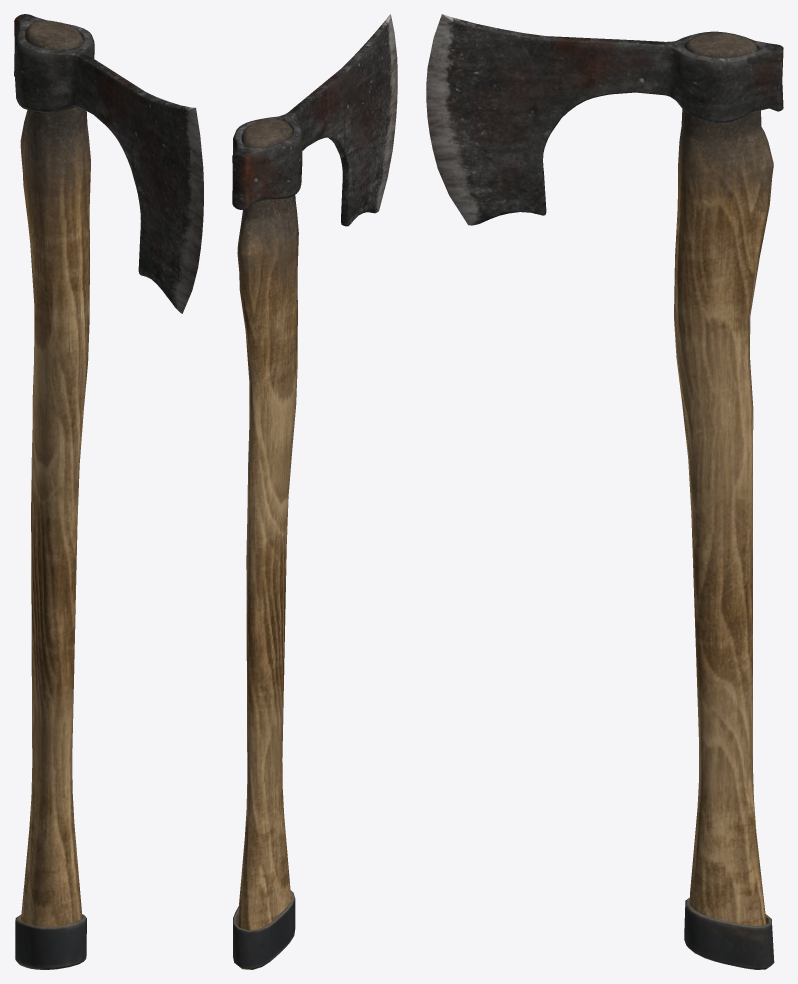
Rendered from hache.glb.
The picture shows the model from 3 angles, left to right: view 1: azimuth 30°, elevation 25°; view 2: azimuth 150°, elevation 25°; view 3: azimuth 270°, elevation 25°; orthographic projection. The views are drawn at different scales.
Visible parts, largest first — view 1: wooden_axe; view 2: wooden_axe; view 3: wooden_axe.
Part boxes in pixels (box(x1,y1,x2,y2)): wooden_axe: box(14, 14, 203, 969); wooden_axe: box(232, 14, 397, 969); wooden_axe: box(426, 14, 783, 969).
Size of the model in its own units: 0.0472 by 0.6303 by 0.2143.
Materials: 1 (1 with a texture image).
